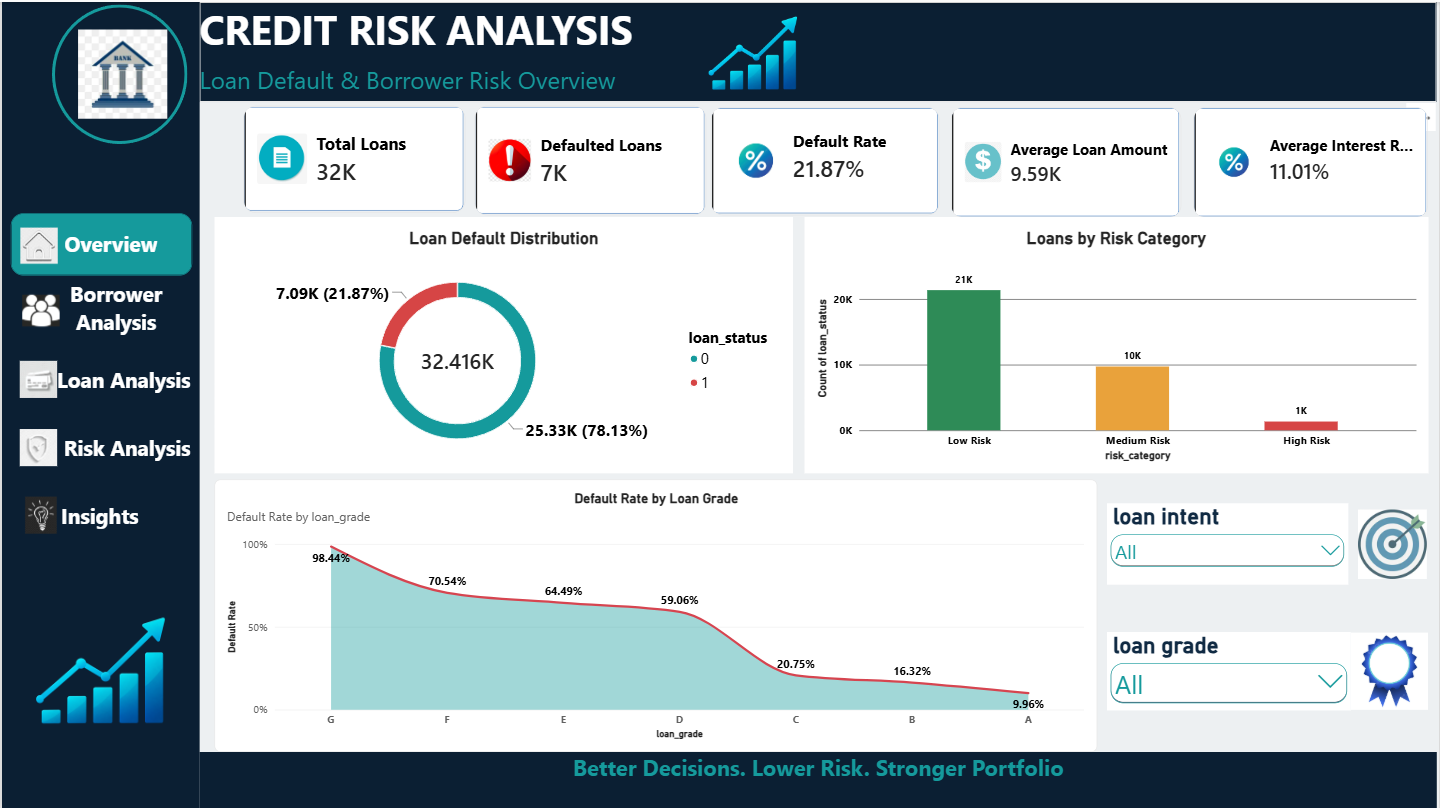

This screenshot's page, from the dashboard's own definition file:
{"tool":"powerbi","page":{"name":"Overview","canvas":[1920,1080],"ordinal":0},"visuals":[{"type":"cardVisual","fields":{"Data":["credit_risk_analysis credit_risk.Total Loans"]},"box":[322.7,137.8,296.8,143],"z":0},{"type":"textbox","box":[150,71.5,300,300],"z":1000},{"type":"textbox","title":"                   CREDIT RISK ANALYSIS","box":[263.8,0,1653.1,133.6],"z":2000},{"type":"textbox","box":[0,0,263.8,1080.3],"z":3000},{"type":"cardVisual","fields":{"Data":["credit_risk_analysis credit_risk.Default Rate"]},"box":[947.1,139.5,305.8,144.8],"z":4000},{"type":"cardVisual","fields":{"Data":["Avg(credit_risk_analysis credit_risk.loan_amnt)"]},"box":[1268,139.5,307.6,148.4],"z":5000},{"type":"cardVisual","fields":{"Data":["credit_risk_analysis credit_risk.Average Interest Rate Display"]},"box":[1590.7,139.5,314,148.3],"z":6000},{"type":"cardVisual","fields":{"Data":["credit_risk_analysis credit_risk.Defaulted Loans"]},"box":[631.4,137.8,309.5,146.6],"z":7000},{"type":"donutChart","title":"Loan Default Distribution","fields":{"Category":["credit_risk_analysis credit_risk.loan_status"],"Y":["CountNonNull(credit_risk_analysis credit_risk.loan_status)"]},"box":[283.9,287.2,773.1,342.3],"z":8000},{"type":"clusteredColumnChart","title":"Loans by Risk Category","fields":{"Category":["credit_risk_analysis credit_risk.risk_category"],"Y":["CountNonNull(credit_risk_analysis credit_risk.loan_status)"]},"box":[1072,287.2,833.2,342.3],"z":9000},{"type":"lineChart","title":"Default Rate by Loan Grade","fields":{"Category":["credit_risk_analysis credit_risk.loan_grade"],"Y":["credit_risk_analysis credit_risk.Default Rate"]},"box":[283.9,637.9,1178.9,364],"z":10000},{"type":"slicer","fields":{"Values":["credit_risk_analysis credit_risk.loan_intent"]},"box":[1476.7,669.6,322.1,108.6],"z":11000},{"type":"slicer","fields":{"Values":["credit_risk_analysis credit_risk.loan_grade"]},"box":[1476.7,841.5,325.7,105],"z":12000},{"type":"actionButton","box":[11.7,282.2,242.1,83.5],"z":13000},{"type":"actionButton","box":[15,364,248.8,98.5],"z":14000},{"type":"actionButton","box":[11.7,462.5,252.1,85.2],"z":15000},{"type":"actionButton","box":[11.7,556,252.1,80.1],"z":16000},{"type":"actionButton","box":[15,647.9,205.4,76.8],"z":17000},{"type":"image","box":[38,36.2,246.1,119.4],"z":18000},{"type":"shape","box":[67,3.6,181,186.4],"z":19000},{"type":"image","box":[1803.5,678.5,108.1,92.4],"z":20000},{"type":"image","box":[1802.4,841.5,103.2,105],"z":21000},{"type":"textbox","title":"Better Decisions. Lower Risk. Stronger Portfolio","box":[263.8,1001.9,1653.1,78.5],"z":22000},{"type":"image","box":[6.7,743,240.4,300.6],"z":23000},{"type":"image","box":[850.5,12.7,300.4,110.4],"z":24000}]}

Visuals, with their boxes in screenshot pixels (x1, y1, x2, y2), scaled from the page's 1920x1080 canvas onto the 1440x808 screenshot:
cardVisual - credit_risk_analysis credit_risk.Total Loans: 242:103:465:210
textbox: 112:53:338:278
"                   CREDIT RISK ANALYSIS" textbox: 198:0:1438:100
textbox: 0:0:198:807
cardVisual - credit_risk_analysis credit_risk.Default Rate: 710:104:940:213
cardVisual - Avg(credit_risk_analysis credit_risk.loan_amnt): 951:104:1182:215
cardVisual - credit_risk_analysis credit_risk.Average Interest Rate Display: 1193:104:1429:215
cardVisual - credit_risk_analysis credit_risk.Defaulted Loans: 474:103:706:213
"Loan Default Distribution" donutChart: 213:215:793:471
"Loans by Risk Category" clusteredColumnChart: 804:215:1429:471
"Default Rate by Loan Grade" lineChart: 213:477:1097:750
slicer - credit_risk_analysis credit_risk.loan_intent: 1108:501:1349:582
slicer - credit_risk_analysis credit_risk.loan_grade: 1108:630:1352:708
actionButton: 9:211:190:274
actionButton: 11:272:198:346
actionButton: 9:346:198:410
actionButton: 9:416:198:476
actionButton: 11:485:165:542
image: 28:27:213:116
shape: 50:3:186:142
image: 1353:508:1434:577
image: 1352:630:1429:708
"Better Decisions. Lower Risk. Stronger Portfolio" textbox: 198:750:1438:807
image: 5:556:185:781
image: 638:10:863:92
